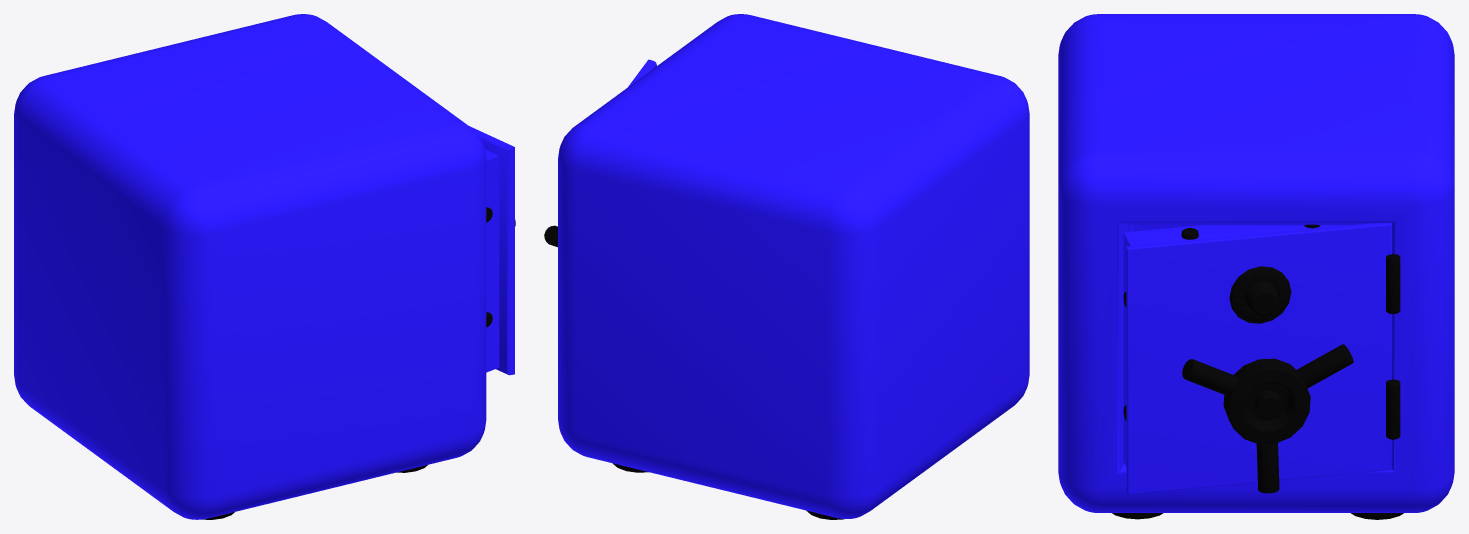
Rendered from safebox.fbx.
The picture shows the model from 3 angles, left to right: view 1: azimuth 30°, elevation 25°; view 2: azimuth 150°, elevation 25°; view 3: azimuth 270°, elevation 25°; orthographic projection. The views are drawn at different scales.
Visible parts, largest first — view 1: Box, Door; view 2: Box; view 3: Box, Door, handle, key, Cylinder_3, Cylinder_3_3, Cylinder_3_2, hing, hing_2.
Part boxes in pixels (bbox=[...]): Box: bbox=[14, 14, 486, 519]; Door: bbox=[469, 126, 514, 375]; Box: bbox=[558, 14, 1029, 518]; Box: bbox=[1058, 14, 1454, 512]; Door: bbox=[1123, 223, 1392, 494]; handle: bbox=[1223, 358, 1310, 444]; key: bbox=[1229, 266, 1291, 323]; Cylinder_3: bbox=[1295, 344, 1353, 388]; Cylinder_3_3: bbox=[1182, 359, 1238, 396]; Cylinder_3_2: bbox=[1256, 443, 1279, 493]; hing: bbox=[1386, 379, 1400, 439]; hing_2: bbox=[1386, 253, 1400, 313].
Bounding box in the file's own units: 248 × 207 × 200.
